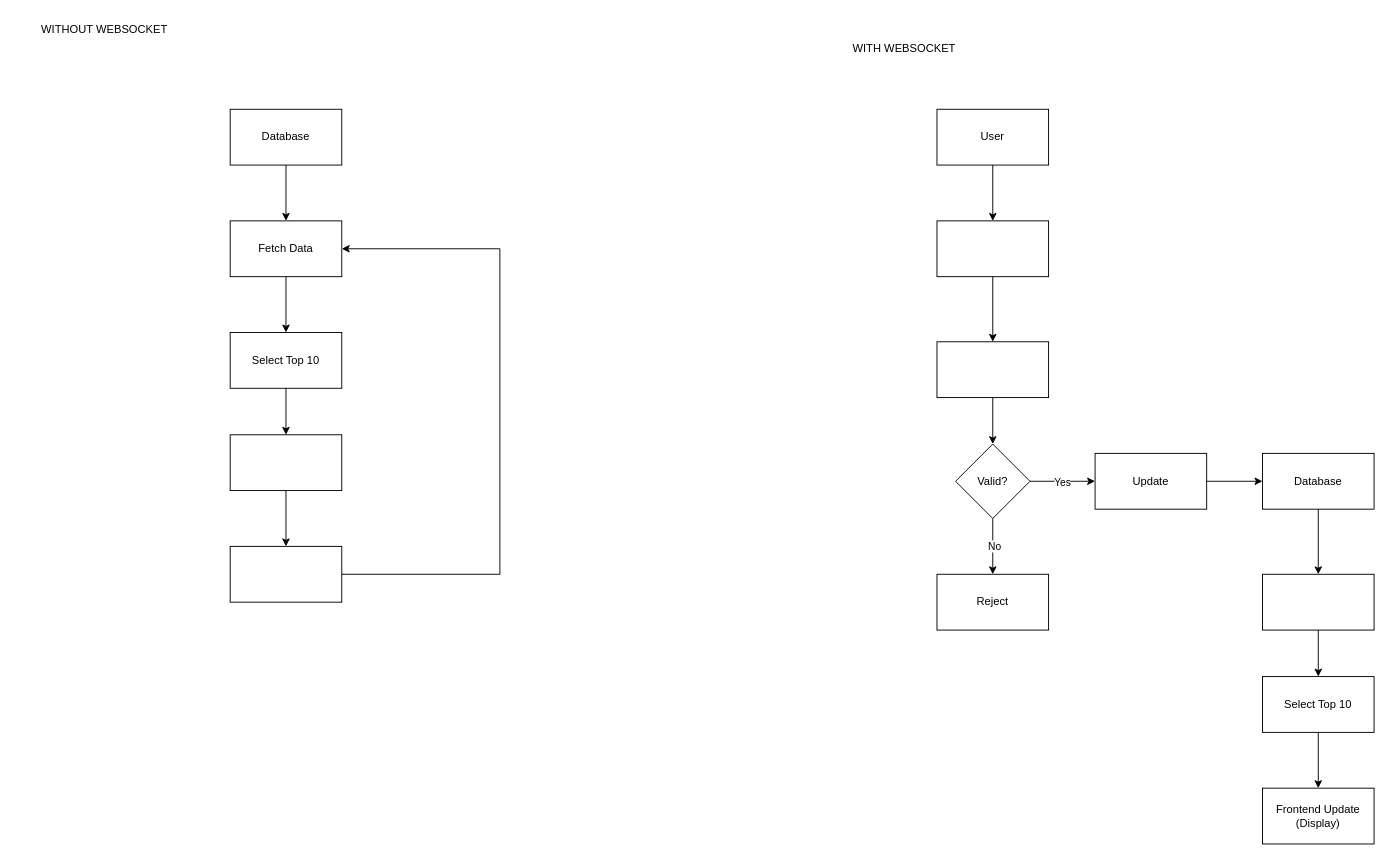
Image size: 1390x860. Some labels were removed from this diagram. The shapes that lost their labels are listed below. From the top down, each one's centre as x and y in pixels, then its label:
At point 992,248: "API Request".
At point 992,369: "Validation".
At point 285,462: "Display".
At point 285,573: "API Request Every * Second".
At point 1318,601: "Notify Client via WebSocket".
